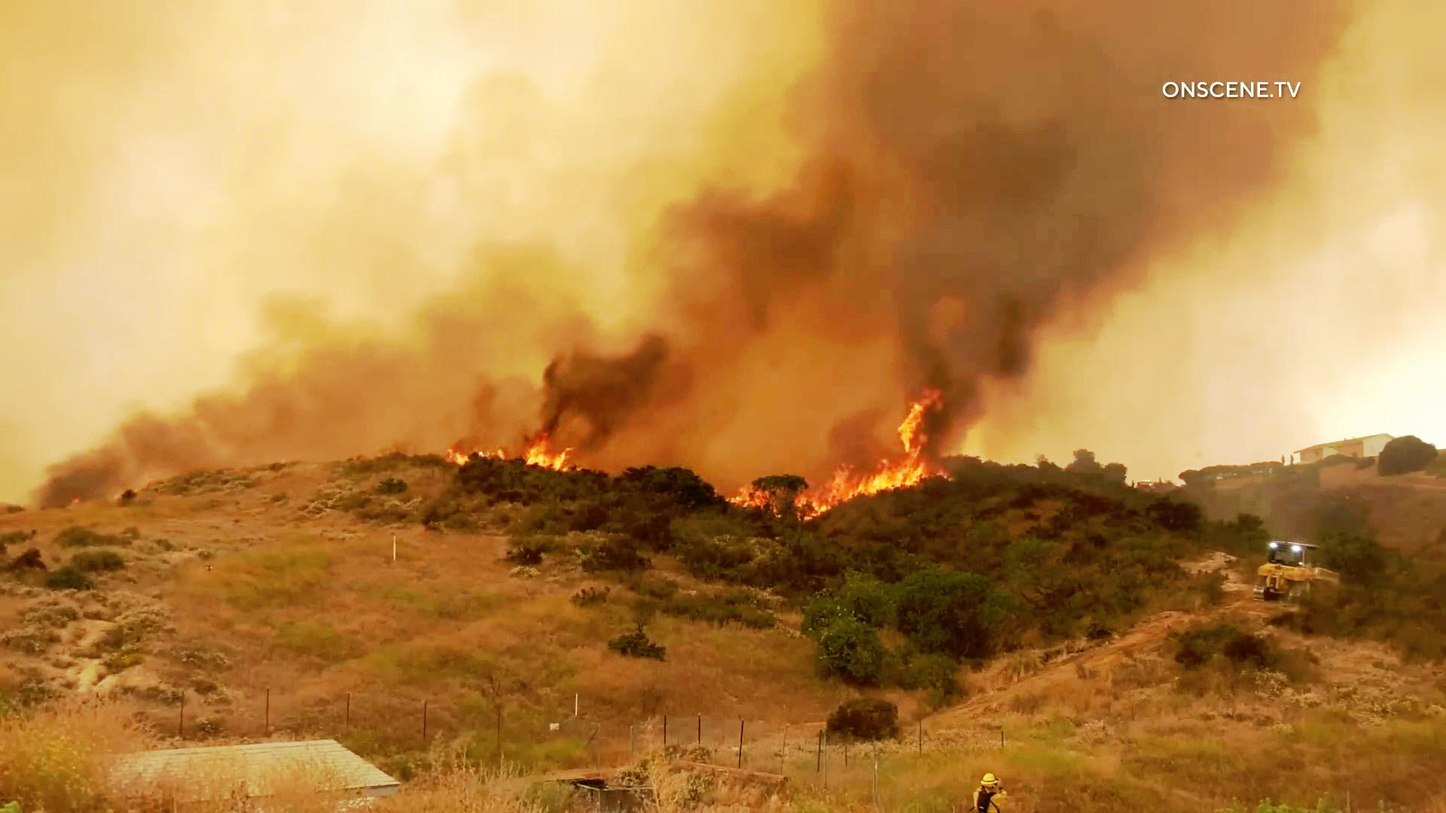fire: (767, 409, 942, 526), (507, 416, 578, 481)
smoke: (887, 115, 1043, 389), (539, 288, 667, 428)
